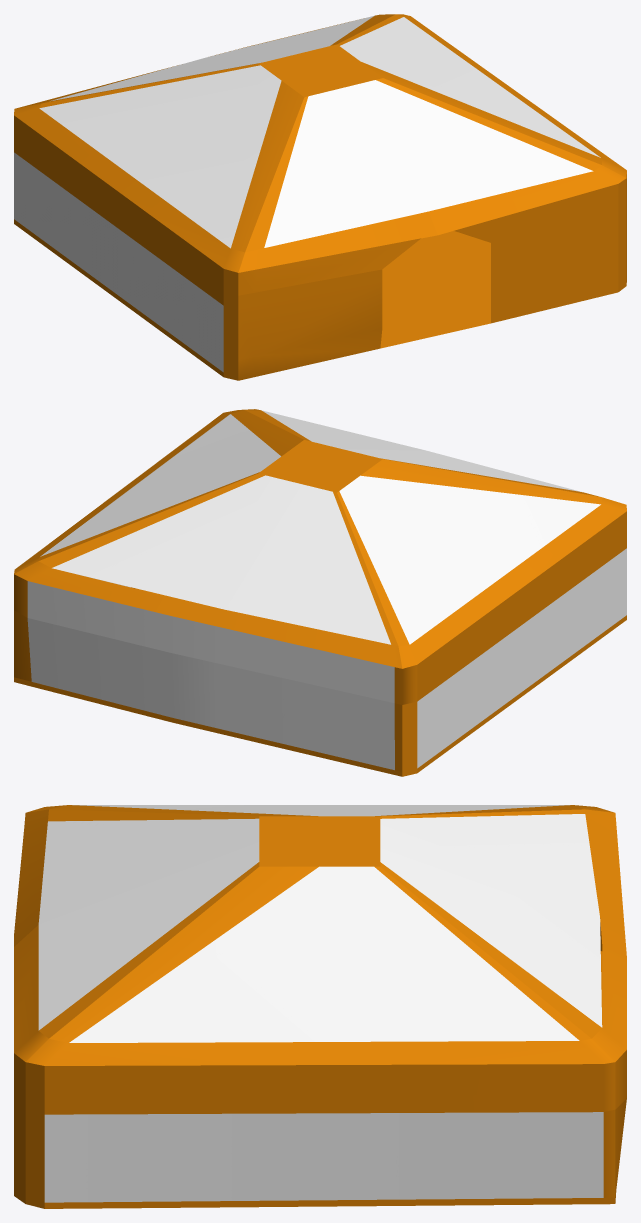
Rendered from Observatory.fbx.
The picture shows the model from 3 angles, top to bottom: view 1: azimuth 30°, elevation 25°; view 2: azimuth 150°, elevation 25°; view 3: azimuth 270°, elevation 25°; orthographic projection. The views are drawn at different scales.
Parts seen in each view (by area): view 1: Roof, Body; view 2: Roof, Body; view 3: Roof, Body.
Boxes of the visible parts, <box> form: Roof: <box>14,14,626,272</box>; Body: <box>14,36,626,380</box>; Roof: <box>14,409,626,668</box>; Body: <box>14,511,626,776</box>; Roof: <box>14,805,626,1065</box>; Body: <box>14,832,626,1208</box>.
Bounding box in the file's own units: 2264 × 970 × 2264.
